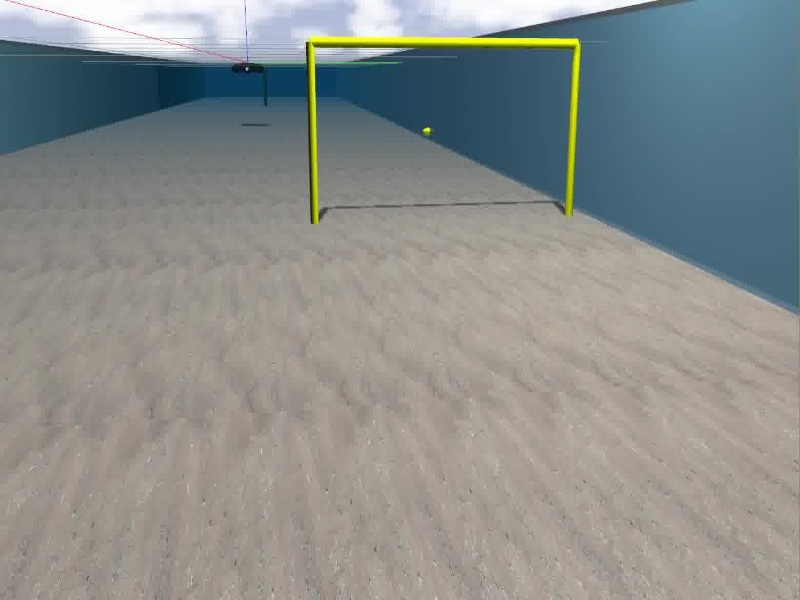gate: (305, 34, 582, 226)
